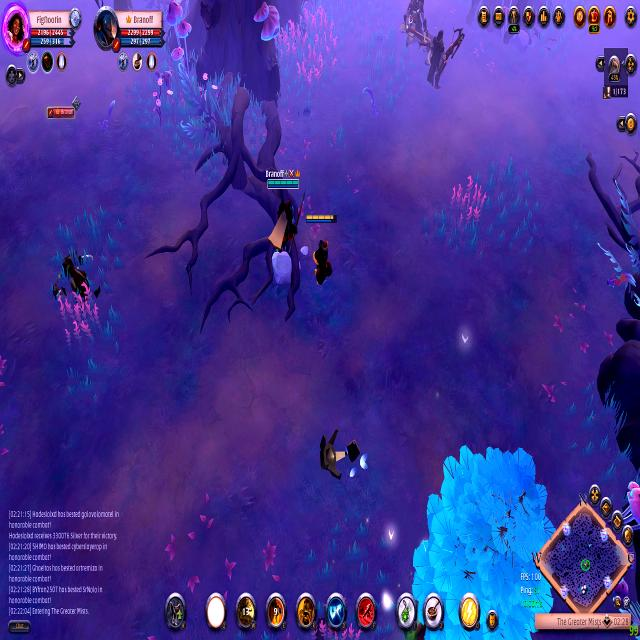ore: (423, 18, 466, 92), (398, 0, 434, 56)
red: (263, 166, 305, 258), (302, 212, 344, 298)
wisp caged: (406, 430, 562, 640)
